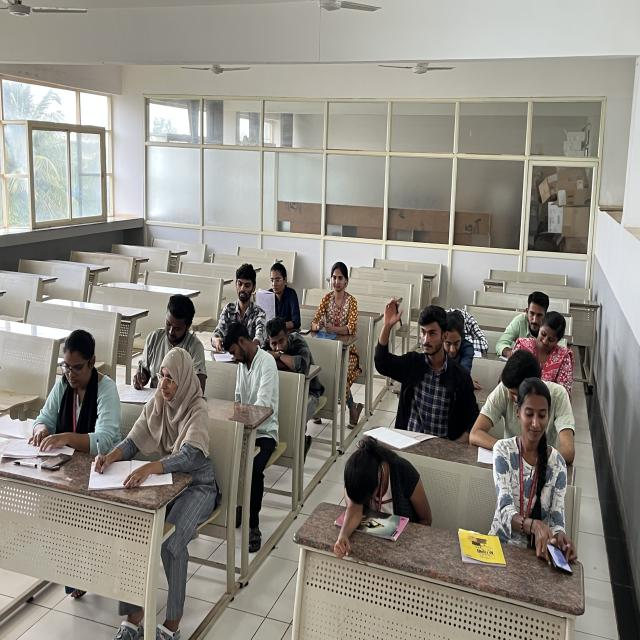Hand Rising: (374, 299, 466, 434)
Reading: (16, 328, 98, 456)
Sleeping: (508, 379, 580, 574), (330, 431, 437, 528)
Writing: (92, 336, 199, 491), (125, 294, 206, 403), (258, 258, 299, 329)
